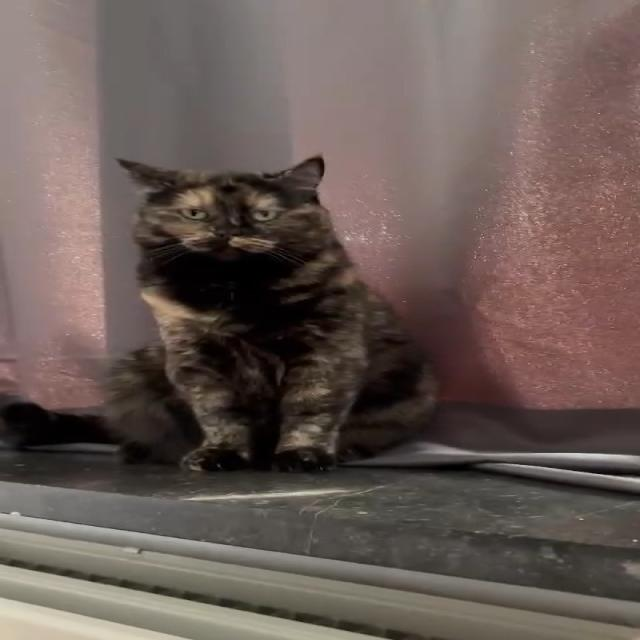authorized: (101, 152, 442, 474)
